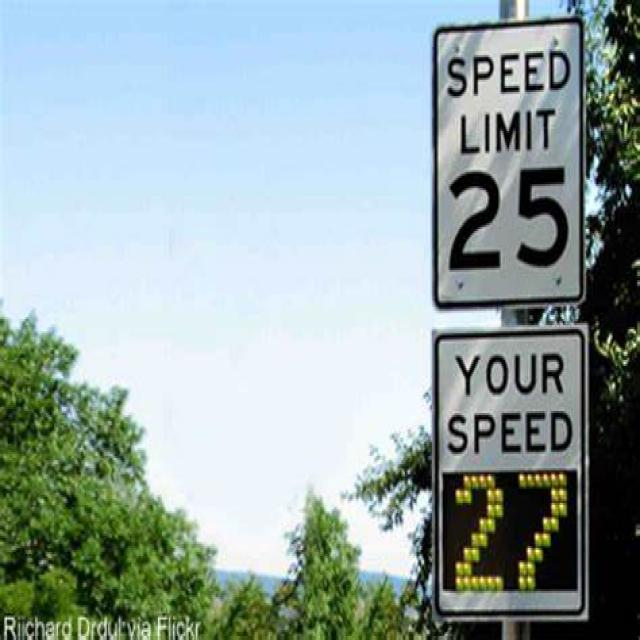speedLimit25: (423, 25, 587, 304)
